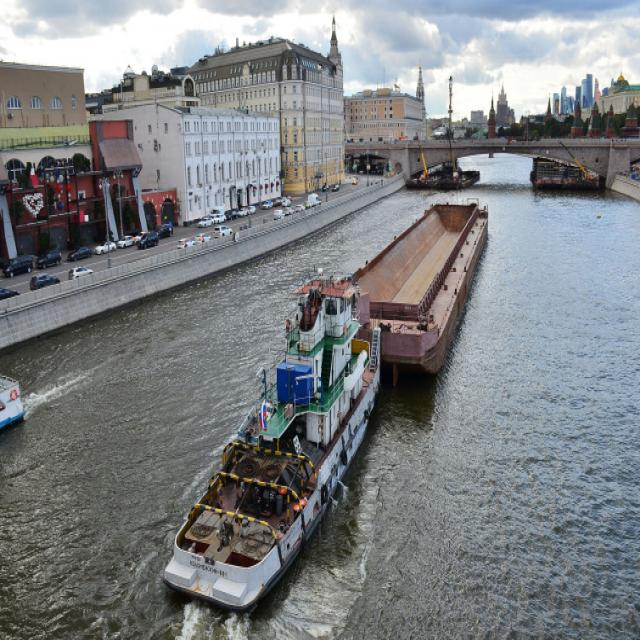tugboat: (158, 273, 389, 619)
